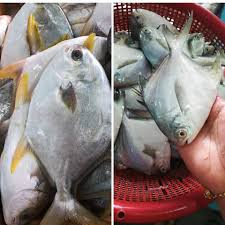Ikan Bawal: (29, 37, 115, 225), (149, 25, 218, 154)
